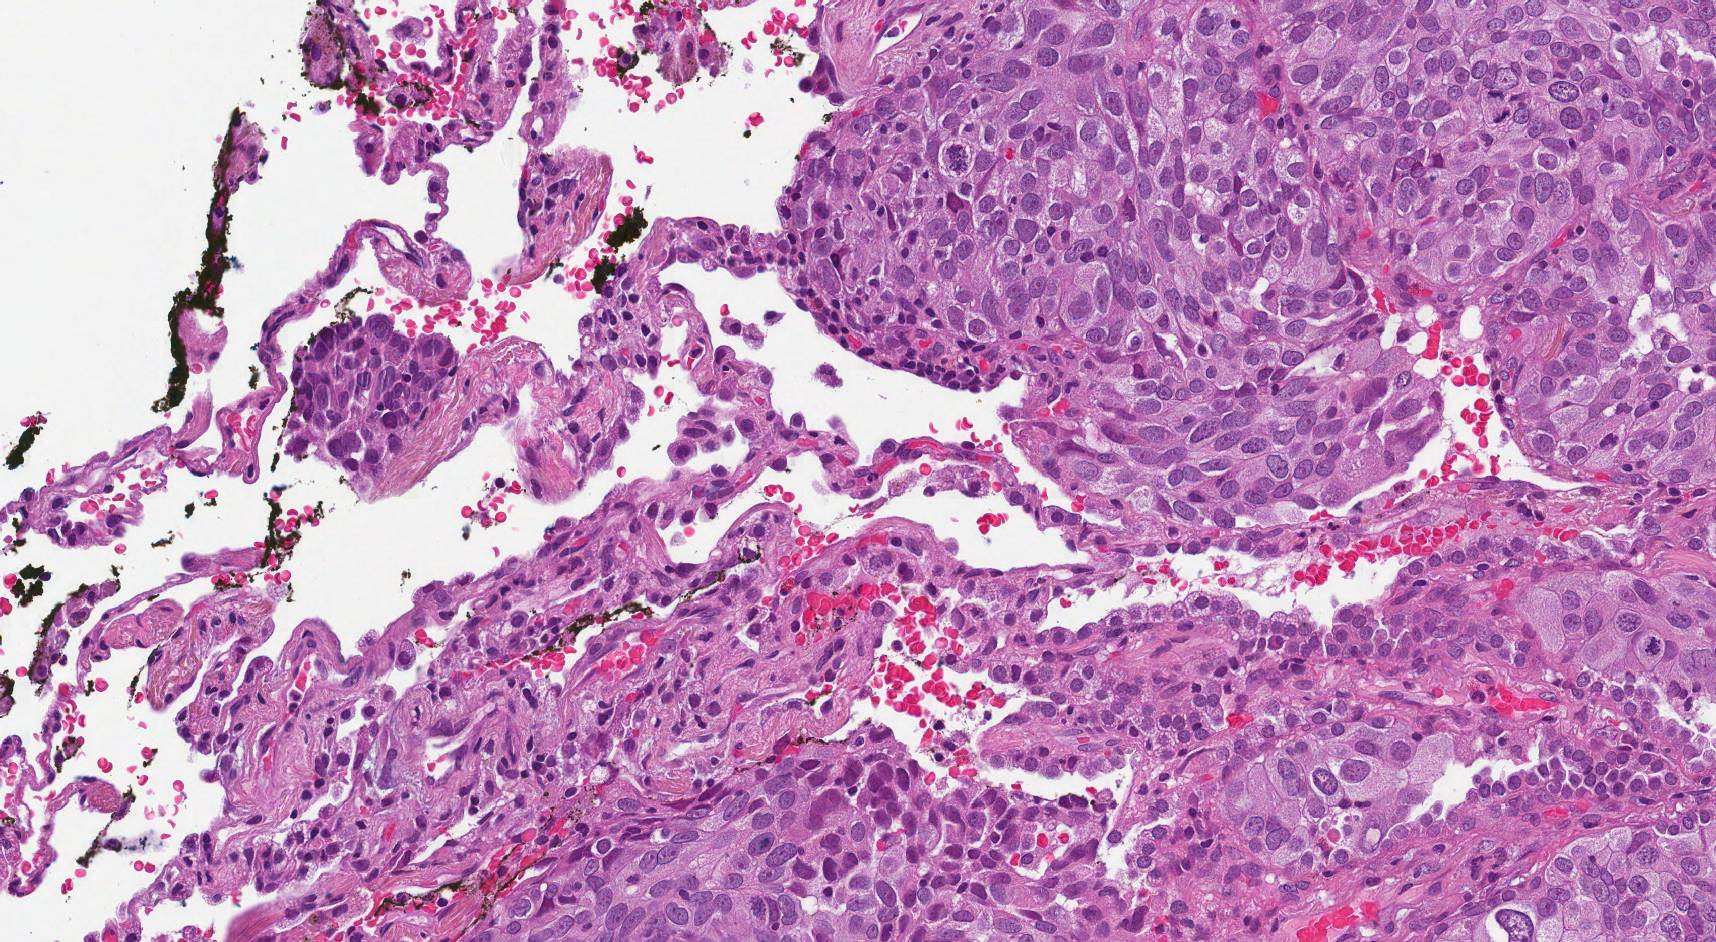stas: (282, 314, 461, 476)
